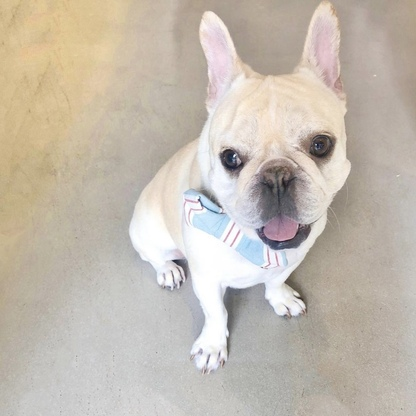bulldog: (124, 2, 353, 376)
